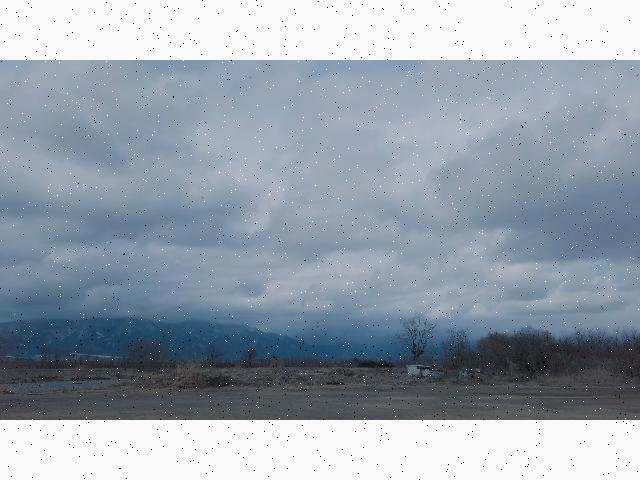Anti-Drone: (273, 236, 285, 246)
